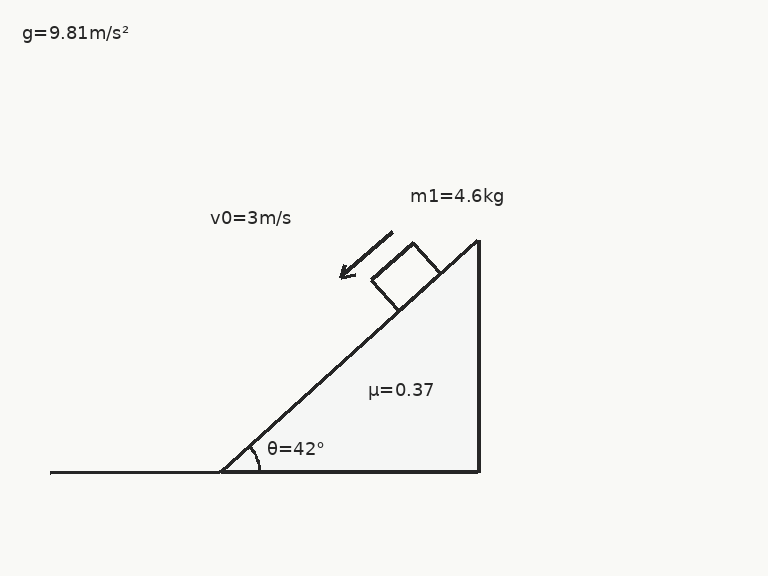block: (369, 241, 442, 312)
ramp: (217, 238, 479, 474)
